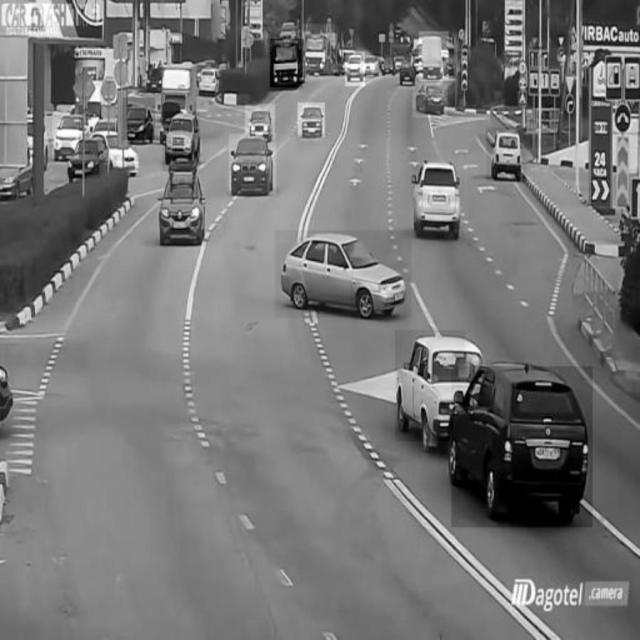vehicle: (452, 366, 593, 526), (276, 230, 412, 318), (395, 330, 466, 441), (410, 159, 468, 239), (156, 175, 204, 243), (229, 134, 276, 195), (162, 112, 200, 172), (487, 128, 527, 179), (303, 24, 335, 76), (270, 39, 304, 87), (66, 134, 100, 179), (419, 32, 449, 82), (123, 99, 155, 141), (53, 108, 79, 159), (412, 83, 448, 119), (298, 103, 325, 138), (196, 61, 221, 98), (246, 104, 276, 134), (345, 52, 365, 87)
